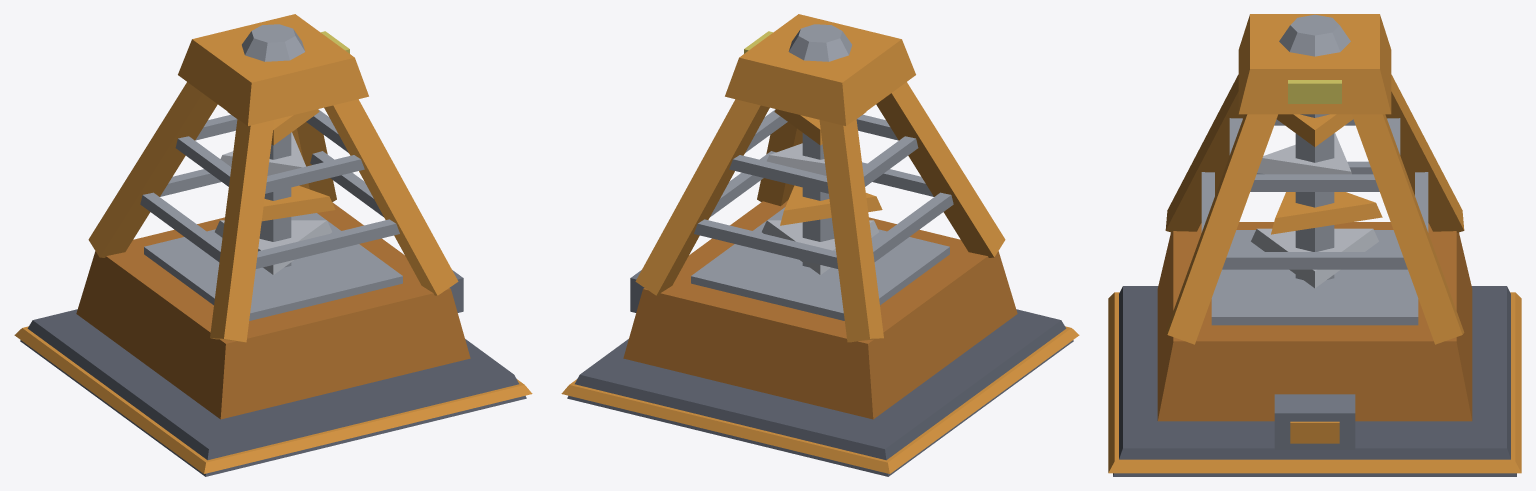
The model's file is drill.glb.
3 renders of one model, left to right at view 1: azimuth 30°, elevation 25°; view 2: azimuth 150°, elevation 25°; view 3: azimuth 270°, elevation 25°, orthographic. The views are drawn at different scales.
Visible parts, largest first — view 1: Body, BitMesh; view 2: Body, BitMesh; view 3: Body, BitMesh.
Boxes of the visible parts, x1=… form: Body: x1=14, y1=14, x2=532, y2=476; BitMesh: x1=215, y1=109, x2=335, y2=274; Body: x1=561, y1=14, x2=1079, y2=476; BitMesh: x1=762, y1=109, x2=882, y2=274; Body: x1=1108, y1=14, x2=1521, y2=476; BitMesh: x1=1251, y1=114, x2=1382, y2=288.
Size of the model in its own units: 0.948 by 0.9 by 0.92.
